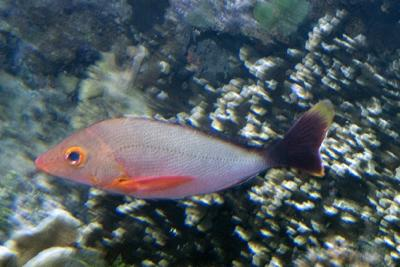Lutjanidae -Snappers-: (32, 96, 343, 200)
